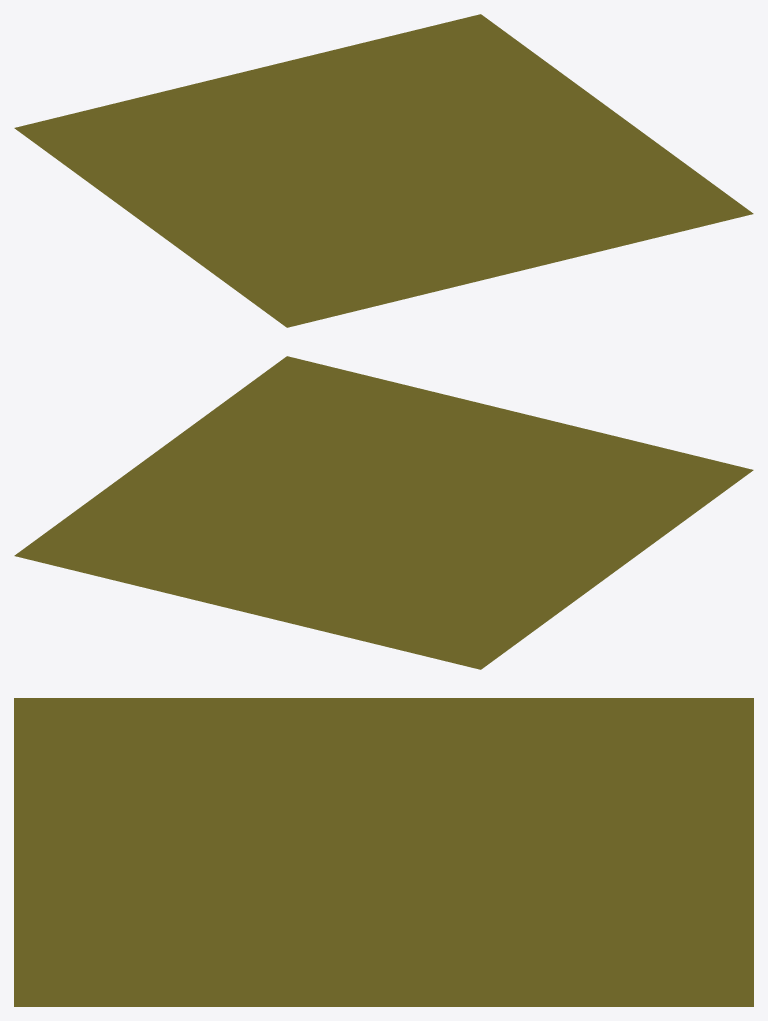
3 renders of one model, top to bottom at view 1: azimuth 30°, elevation 25°; view 2: azimuth 150°, elevation 25°; view 3: azimuth 270°, elevation 25°, orthographic. The views are drawn at different scales.
Size of the model in its own units: 0.9873 by 0 by 1.
1 material, 1 textured.
